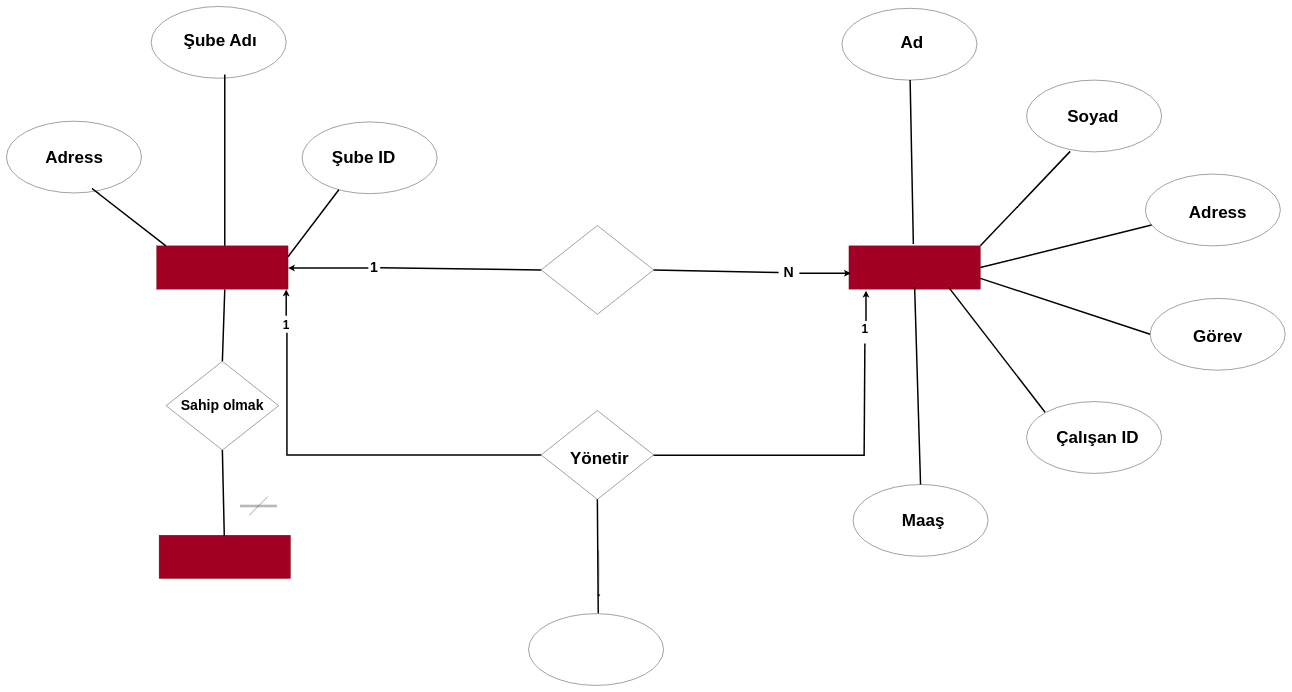
The diagram is 1292 pixels wide and 692 high, and some of its shapes have lost their labels. Here are the shapes that lost their labels. From the top down, the centre of each, then its label:
pixel 222 267: şube
pixel 597 269: Çalışır
pixel 914 267: Çalışan
pixel 224 556: Şirket
pixel 596 649: Yönetici ID
